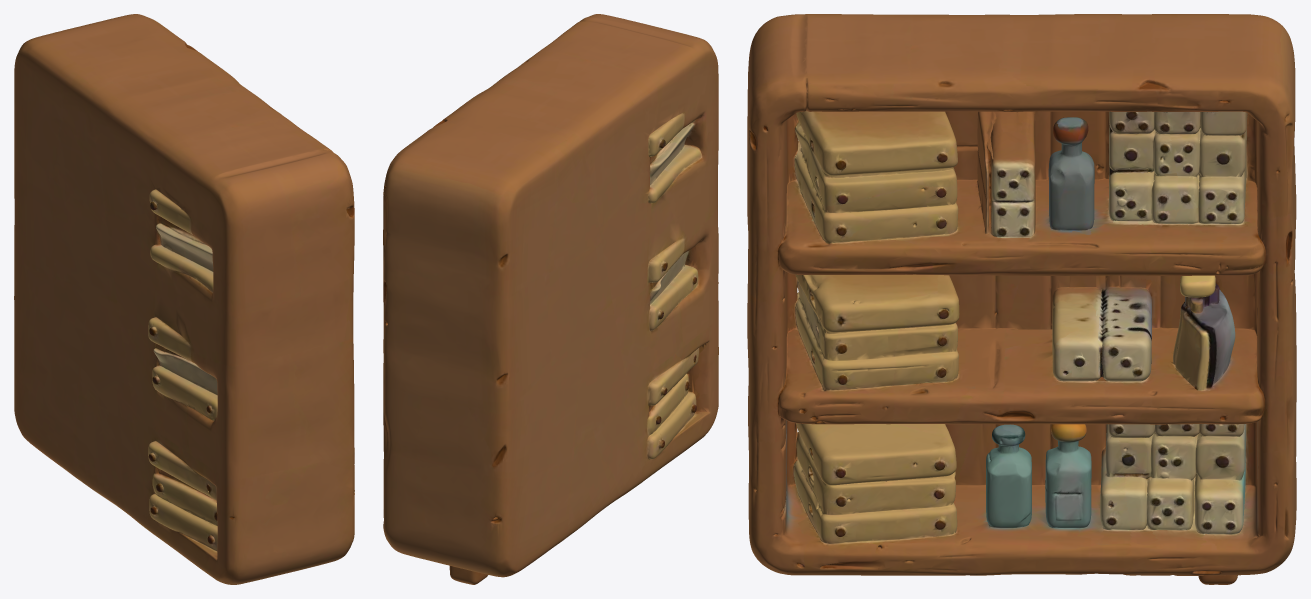
The model's file is shelf-web.glb.
3 views of the same model, side by side, from view 1: azimuth 30°, elevation 25°; view 2: azimuth 150°, elevation 25°; view 3: azimuth 270°, elevation 25° (orthographic). The views are drawn at different scales.
Parts seen in each view (by area): view 1: tripo_node_9fcd20c3-4e1a-4b7b-86cf-496313567538; view 2: tripo_node_9fcd20c3-4e1a-4b7b-86cf-496313567538; view 3: tripo_node_9fcd20c3-4e1a-4b7b-86cf-496313567538.
Boxes of the visible parts, x1,y1,x2,y2 form: tripo_node_9fcd20c3-4e1a-4b7b-86cf-496313567538: (14,14,354,584); tripo_node_9fcd20c3-4e1a-4b7b-86cf-496313567538: (383,14,718,584); tripo_node_9fcd20c3-4e1a-4b7b-86cf-496313567538: (747,14,1296,584).
Bounding box in the file's own units: 0.3606 × 1 × 0.9287.
Materials: 1 (1 with a texture image).
